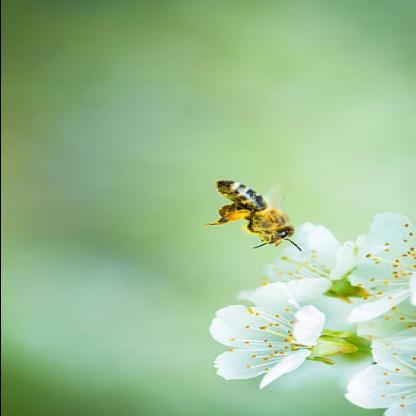other: (209, 180, 304, 256)
